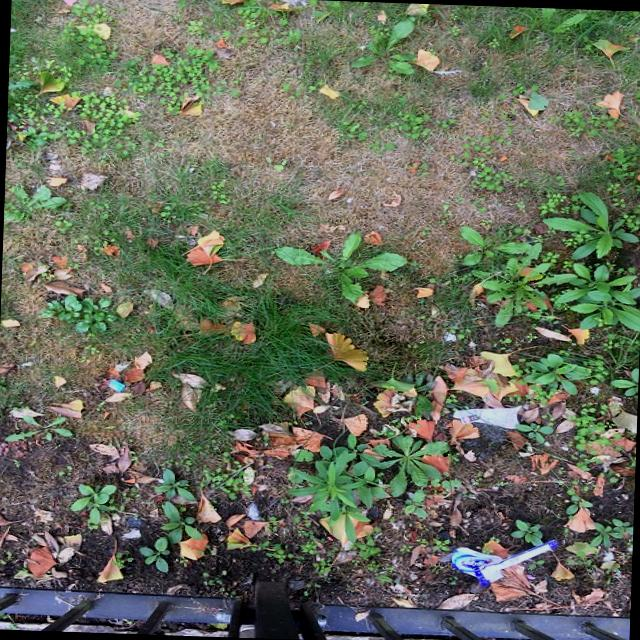Trash: (444, 530, 560, 588)
